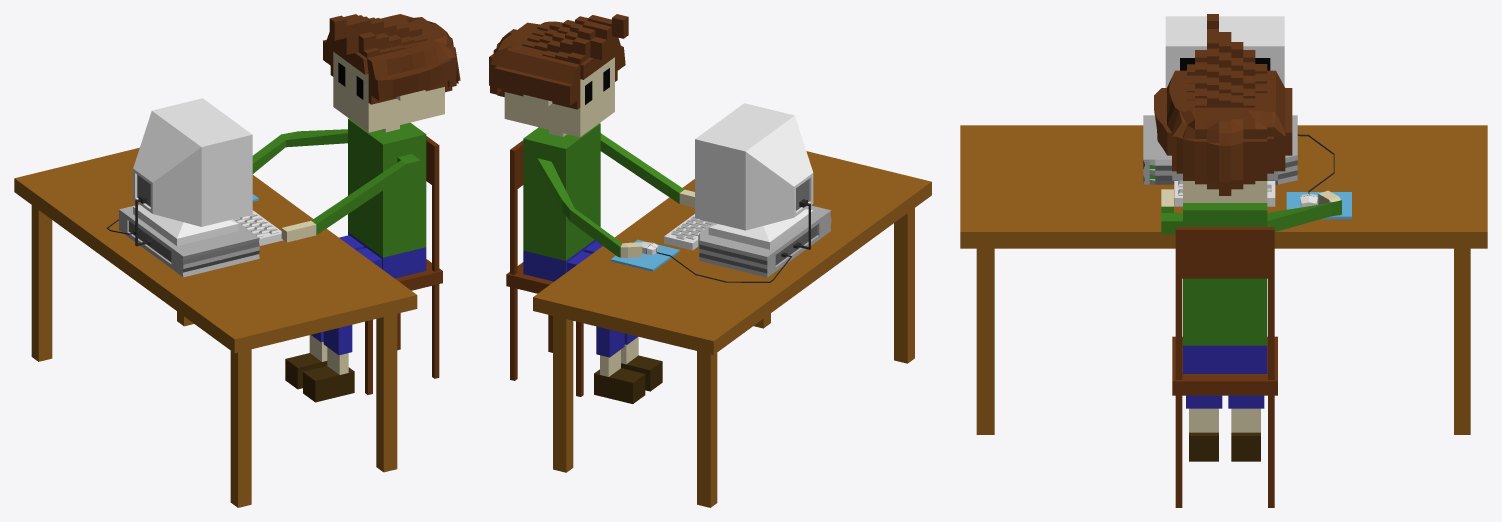
3 views of the same model, side by side, from view 1: azimuth 30°, elevation 25°; view 2: azimuth 150°, elevation 25°; view 3: azimuth 270°, elevation 25° (orthographic). The views are drawn at different scales.
Visible parts, largest first — view 1: Table, Ucci, Monitor, PC, Chair, Keyboard; view 2: Table, Ucci, Monitor, PC, Chair, Keyboard, MousePad; view 3: Table, Ucci, Chair, Monitor, PC, MousePad.
Part boxes in pixels (x1,y1,x2,y2): Table: (14,147,417,507); Ucci: (252,14,460,402); Monitor: (133,98,252,245); PC: (119,204,259,277); Chair: (365,136,442,394); Keyboard: (234,210,283,245); Table: (533,151,931,507); Ucci: (489,14,694,403); Monitor: (695,103,813,249); PC: (698,205,831,277); Chair: (506,140,583,396); Keyboard: (664,214,712,250); MousePad: (610,239,679,271); Table: (960,125,1487,434); Ucci: (1154,14,1341,461); Chair: (1172,227,1277,507); Monitor: (1165,16,1284,87); PC: (1143,115,1297,184); MousePad: (1286,192,1351,219).
Size of the model in its own units: 8.63 by 9.22 by 10.
